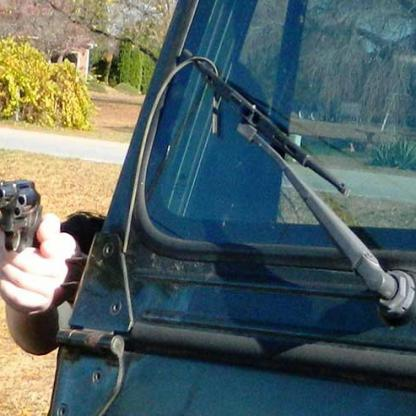gun: (0, 178, 54, 302)
